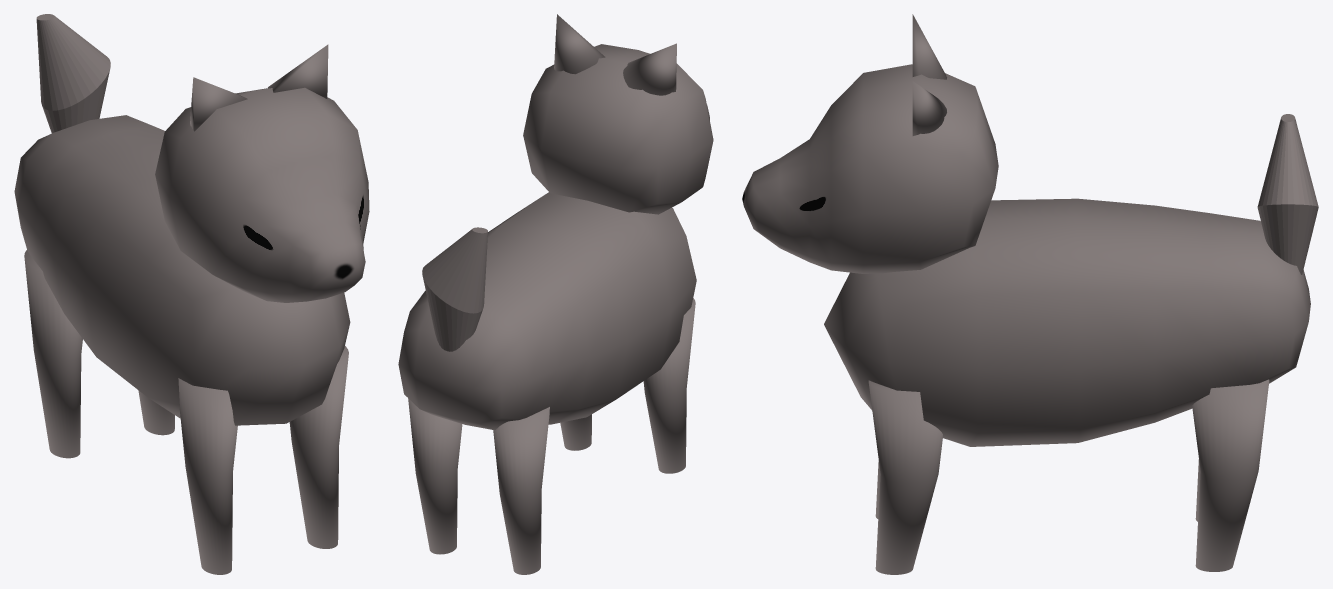
File: dog.fbx
The picture shows the model from 3 angles, left to right: view 1: azimuth 30°, elevation 25°; view 2: azimuth 150°, elevation 25°; view 3: azimuth 270°, elevation 25°; orthographic projection. The views are drawn at different scales.
Visible parts, largest first — view 1: どうたい, 顔, 円柱, 円柱.001, 円柱.002, 耳; view 2: どうたい, 顔, 円柱.001, 円柱.002, 円柱, 耳; view 3: どうたい, 顔, 円柱.001, 円柱, 円柱.002, 耳.
Boxes of the visible parts, x1,y1,x2,y2 form: どうたい: (14,115,350,425); 顔: (155,87,369,302); 円柱: (178,346,348,574); 円柱.001: (24,250,174,458); 円柱.002: (36,14,110,133); 耳: (190,44,328,131); どうたい: (398,192,696,429); 顔: (523,44,713,214); 円柱.001: (408,398,549,574); 円柱.002: (422,227,487,351); 円柱: (560,298,695,473); 耳: (554,14,676,95); どうたい: (824,198,1310,446); 顔: (742,64,998,273); 円柱.001: (1192,379,1269,571); 円柱: (868,380,942,574); 円柱.002: (1257,114,1318,274); 耳: (912,14,946,135).
Size of the model in its own units: 104 by 256 by 270.
Materials: 2 (1 with a texture image).
